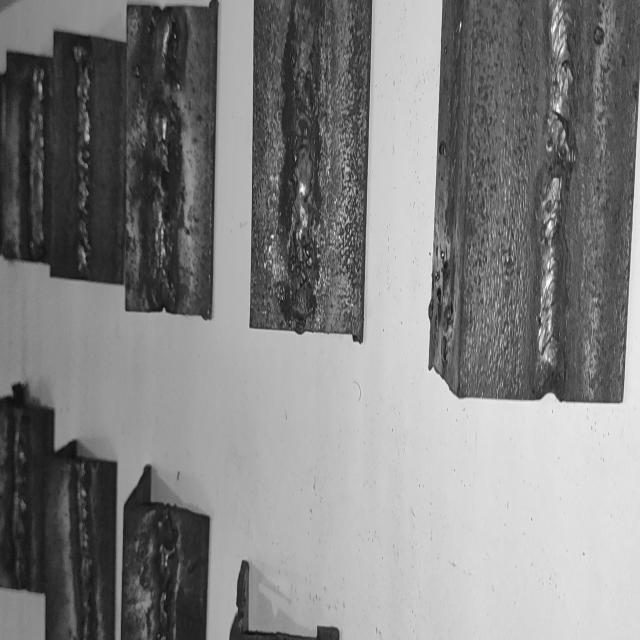Defect: (147, 46, 183, 120)
Welding Line: (535, 0, 582, 379), (282, 0, 322, 328), (146, 12, 182, 304), (73, 38, 95, 274), (70, 460, 94, 640), (27, 63, 48, 255), (10, 404, 30, 588), (155, 512, 176, 640)
Workpiece: (420, 0, 640, 404), (243, 0, 378, 334), (124, 0, 222, 317), (49, 26, 132, 282), (117, 455, 213, 640), (41, 433, 121, 640), (1, 386, 58, 606), (0, 47, 52, 268)
